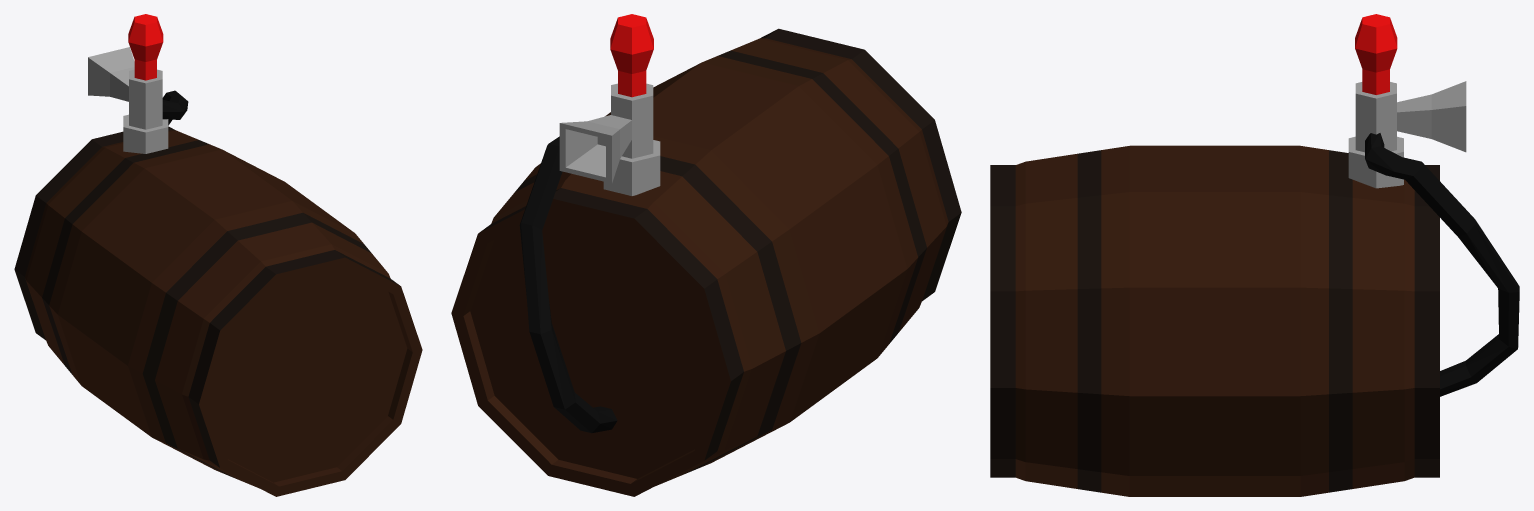
Rendered from barrel.fbx.
The picture shows the model from 3 angles, left to right: view 1: azimuth 30°, elevation 25°; view 2: azimuth 150°, elevation 25°; view 3: azimuth 270°, elevation 25°; orthographic projection. The views are drawn at different scales.
Visible parts, largest first — view 1: Cylinder001; view 2: Cylinder001; view 3: Cylinder001.
Boxes of the visible parts, box(x1,y1,x2,y2) form: Cylinder001: box(14, 14, 422, 496); Cylinder001: box(451, 14, 961, 496); Cylinder001: box(990, 14, 1519, 496).
Bounding box in the file's own units: 27.15 × 38.03 × 40.63.
